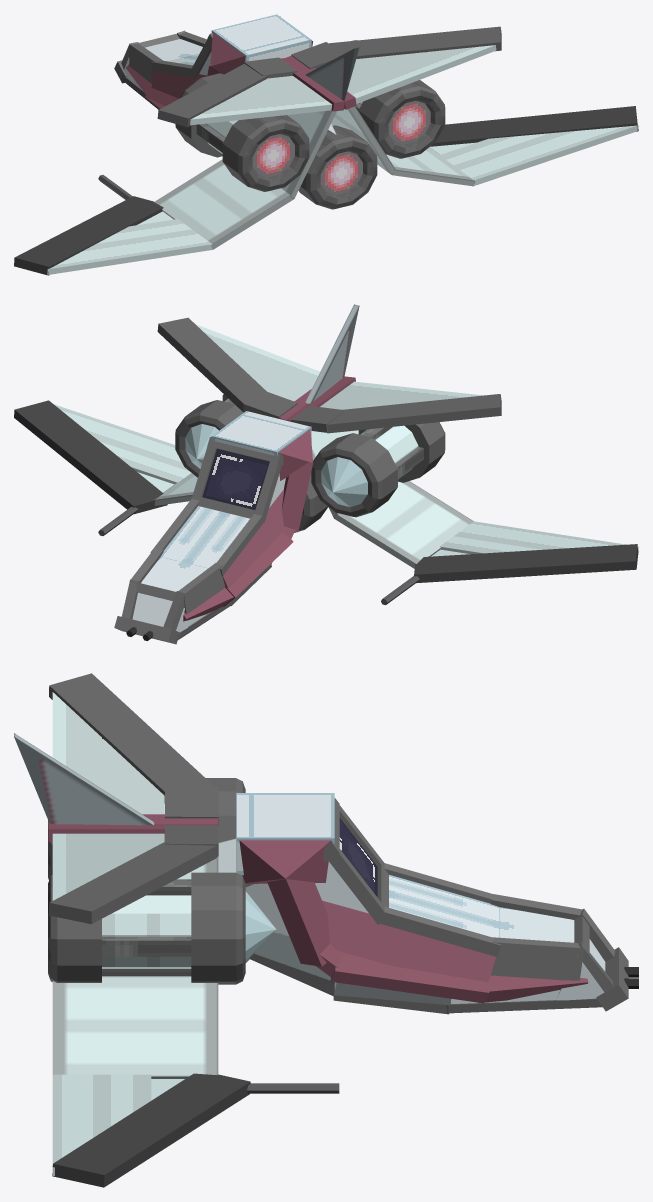
File: ship.obj
The picture shows the model from 3 angles, top to bottom: view 1: azimuth 30°, elevation 25°; view 2: azimuth 150°, elevation 25°; view 3: azimuth 270°, elevation 25°; orthographic projection. The views are drawn at different scales.
Parts seen in each view (by area): view 1: cube, cylinder, torus, pyramid; view 2: cube, cylinder, torus, pyramid, cone; view 3: cube, cylinder, pyramid, torus, cone.
Boxes of the visible parts, x1=… form: cube: x1=14, y1=14, x2=638, y2=275; cylinder: x1=98, y1=40, x2=434, y2=203; torus: x1=175, y1=40, x2=445, y2=209; pyramid: x1=124, y1=32, x2=359, y2=135; cube: x1=14, y1=317, x2=638, y2=644; cylinder: x1=98, y1=394, x2=444, y2=640; torus: x1=175, y1=411, x2=445, y2=532; pyramid: x1=176, y1=304, x2=359, y2=632; cone: x1=185, y1=424, x2=367, y2=507; cube: x1=48, y1=673, x2=628, y2=1187; cylinder: x1=57, y1=778, x2=638, y2=1093; pyramid: x1=14, y1=733, x2=604, y2=1000; torus: x1=48, y1=778, x2=245, y2=984; cone: x1=245, y1=891, x2=276, y2=962.
Size of the model in its own units: 14.32 by 4.03 by 8.73.
Materials: 38 (37 with a texture image).
